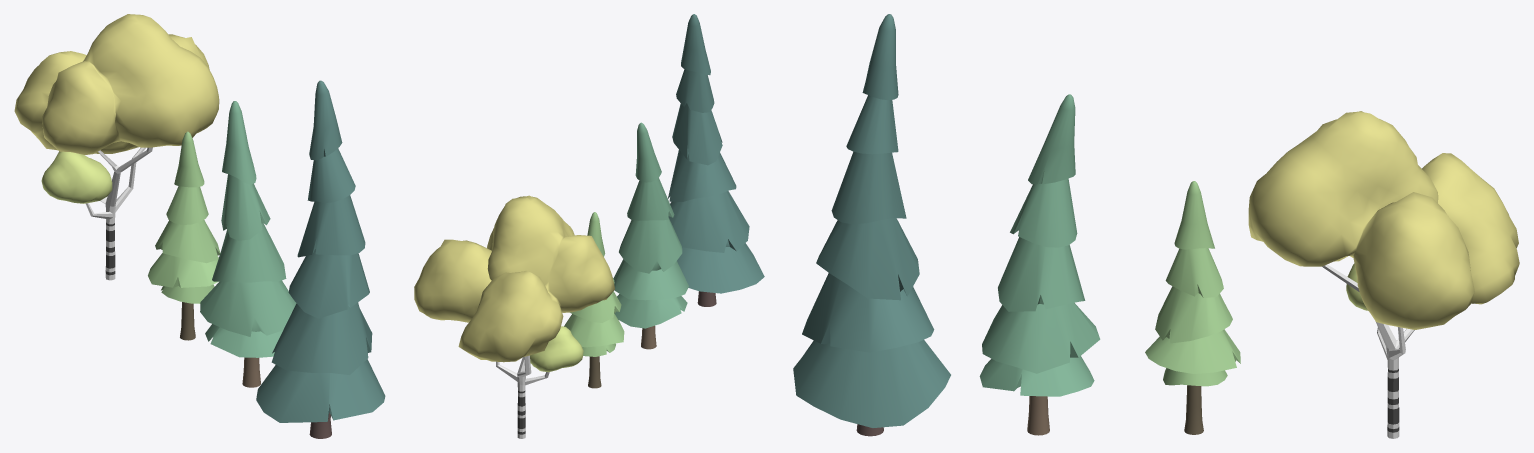
The model's file is trees.fbx.
3 renders of one model, left to right at view 1: azimuth 30°, elevation 25°; view 2: azimuth 150°, elevation 25°; view 3: azimuth 270°, elevation 25°, orthographic. The views are drawn at different scales.
Visible parts, largest first — view 1: BirchTree, PineTree03, PineTree02, PineTree01; view 2: BirchTree, PineTree03, PineTree02, PineTree01; view 3: BirchTree, PineTree03, PineTree02, PineTree01.
Boxes of the visible parts, x1,y1,x2,y2 form: BirchTree: [14, 14, 219, 280]; PineTree03: [256, 80, 385, 438]; PineTree02: [200, 101, 296, 387]; PineTree01: [148, 131, 220, 340]; BirchTree: [414, 195, 614, 438]; PineTree03: [668, 14, 764, 306]; PineTree02: [613, 122, 688, 349]; PineTree01: [564, 212, 624, 388]; BirchTree: [1248, 111, 1519, 438]; PineTree03: [793, 14, 950, 436]; PineTree02: [979, 94, 1100, 435]; PineTree01: [1145, 181, 1240, 434].
Bounding box in the file's own units: 1288 × 2264 × 3518.
